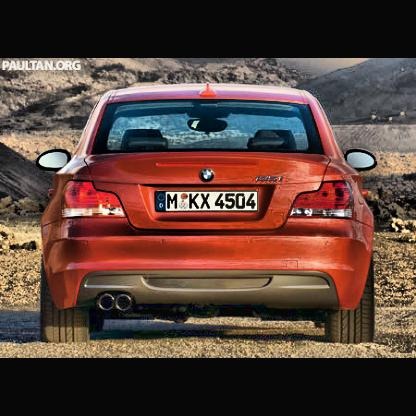BMW 1 Series Coupe 2012: (34, 82, 382, 347)
